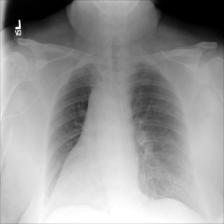normal: (42, 60, 201, 205)
